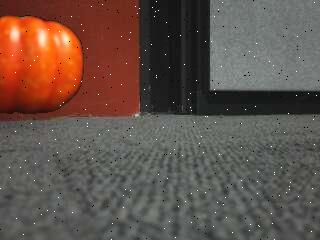Pumpkin: (0, 11, 86, 117)
